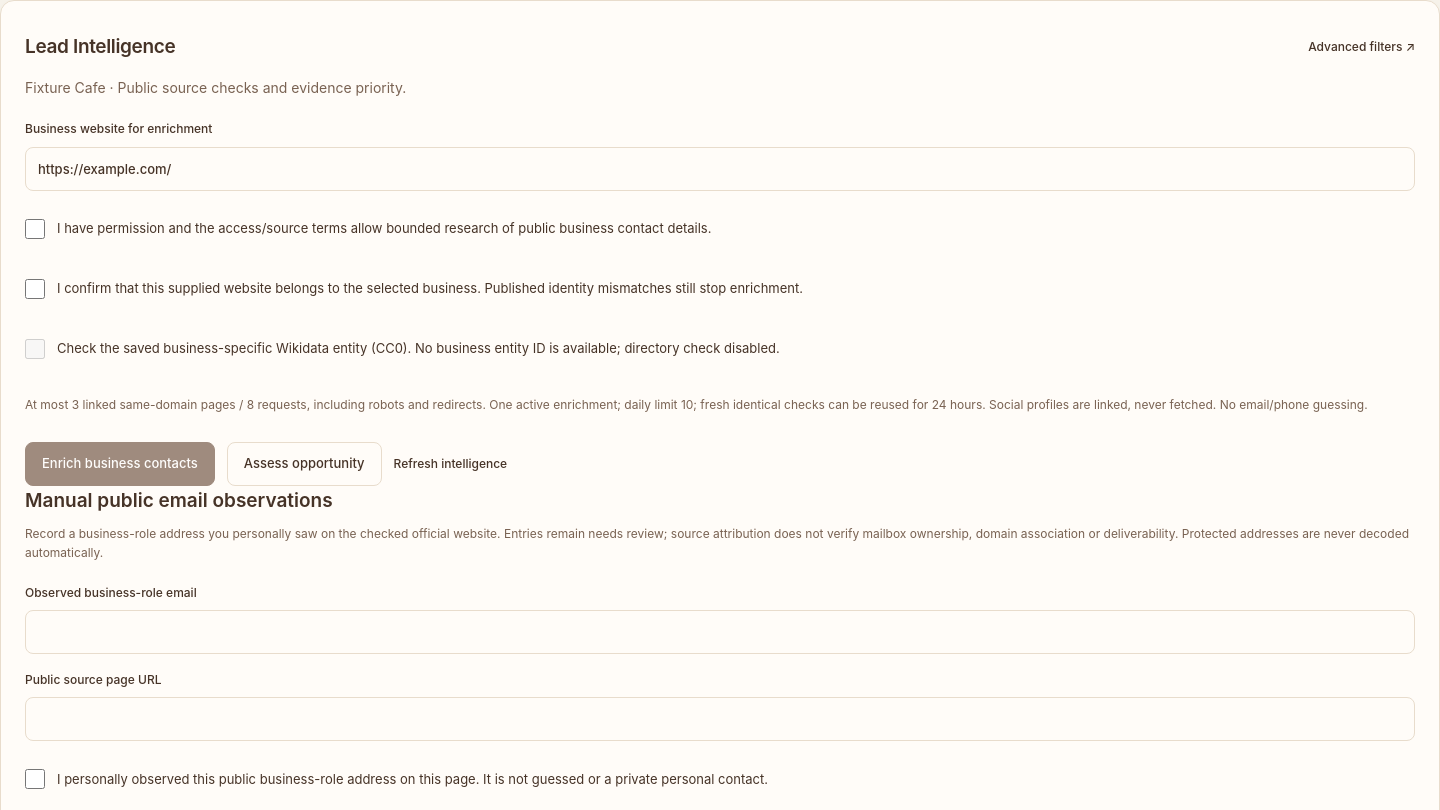
Scenario: requires source permission and sends the selected business and official confirmation
expect the button "Enrich business contacts" is disabled: met, box [25,442,215,486]
Click the checkbox labelled "I have permission".
click(35, 229)  # box [25,219,45,239]
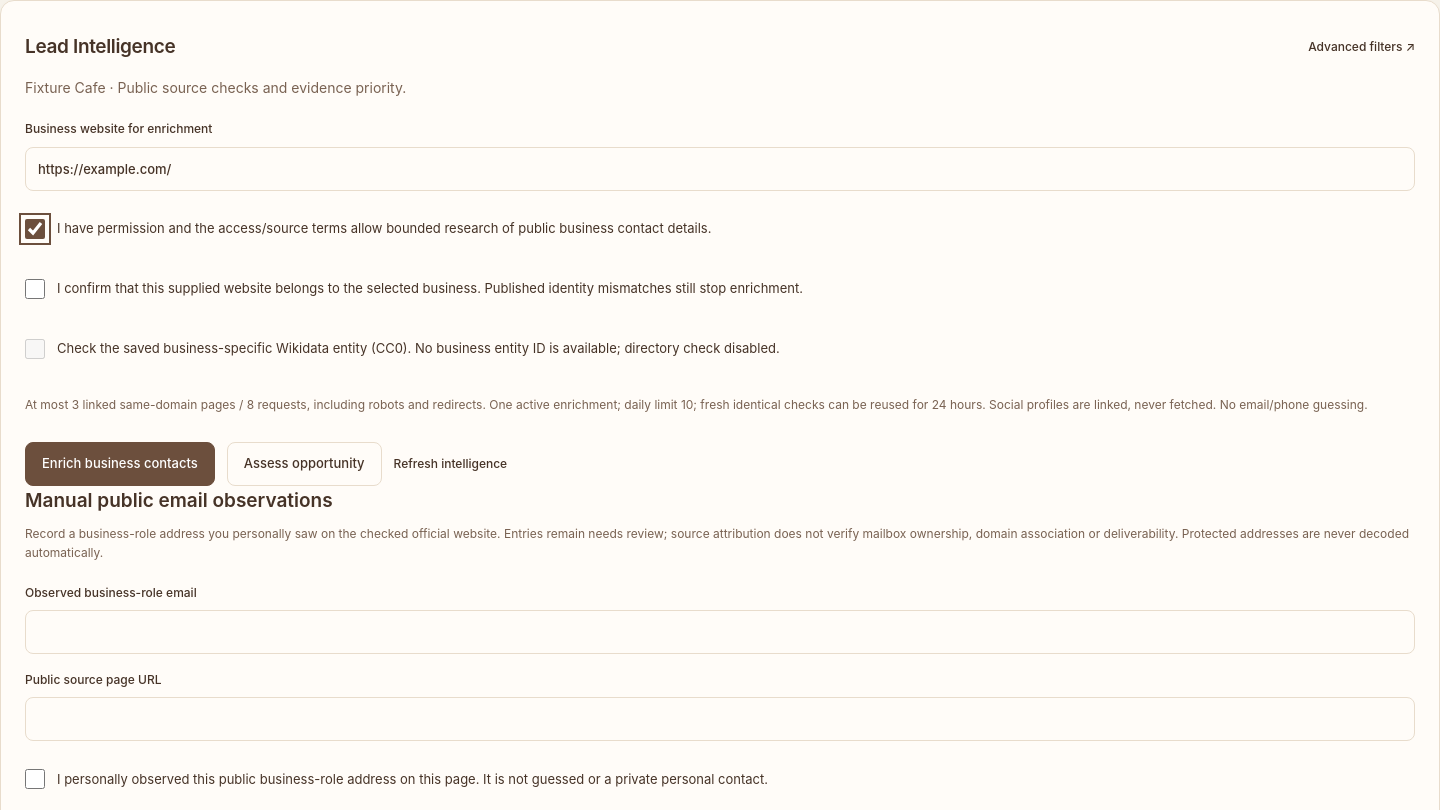
Click the checkbox labelled "I confirm that".
click(35, 289)  # box [25,279,45,299]
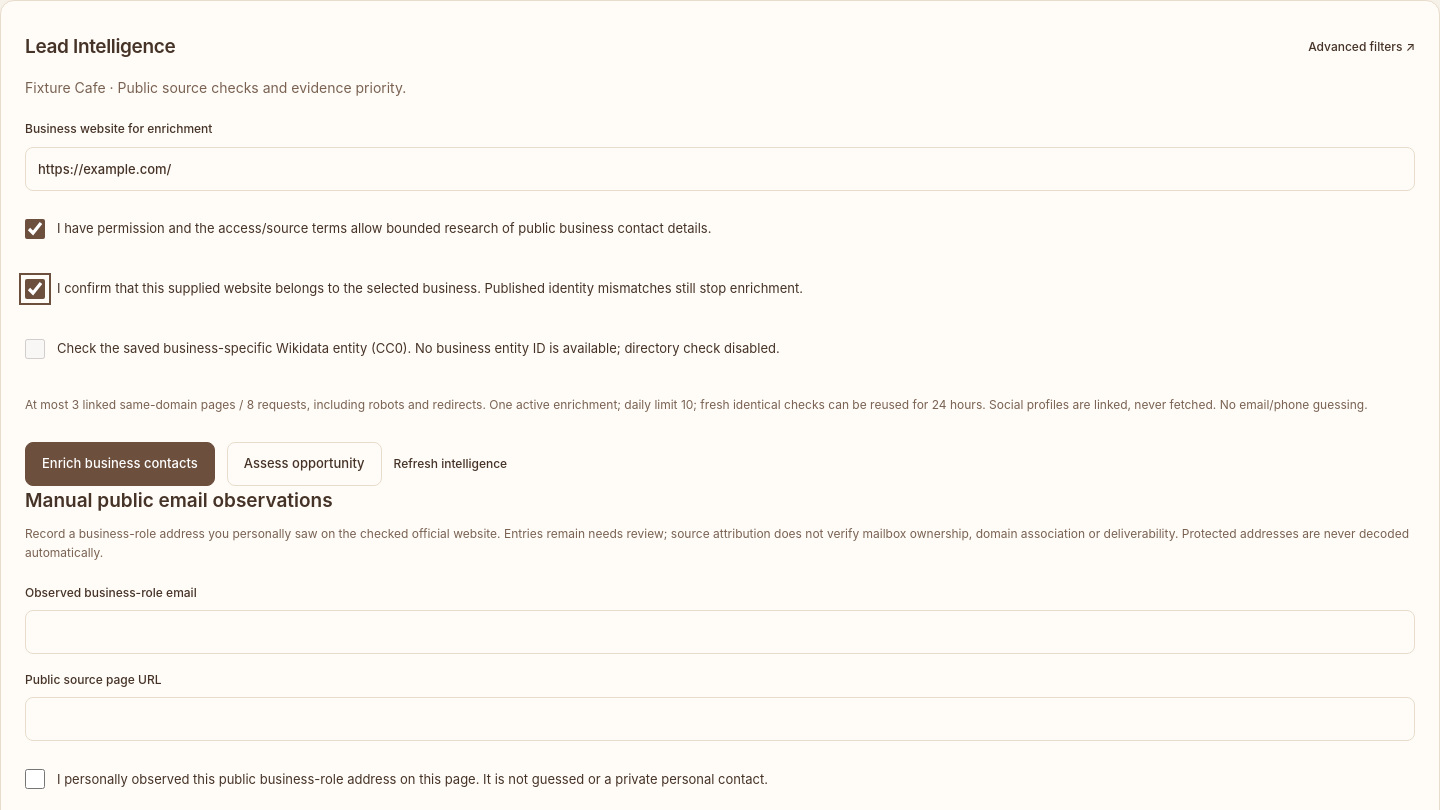
Click the button "Enrich business contacts".
click(120, 464)  # box [25,442,215,486]
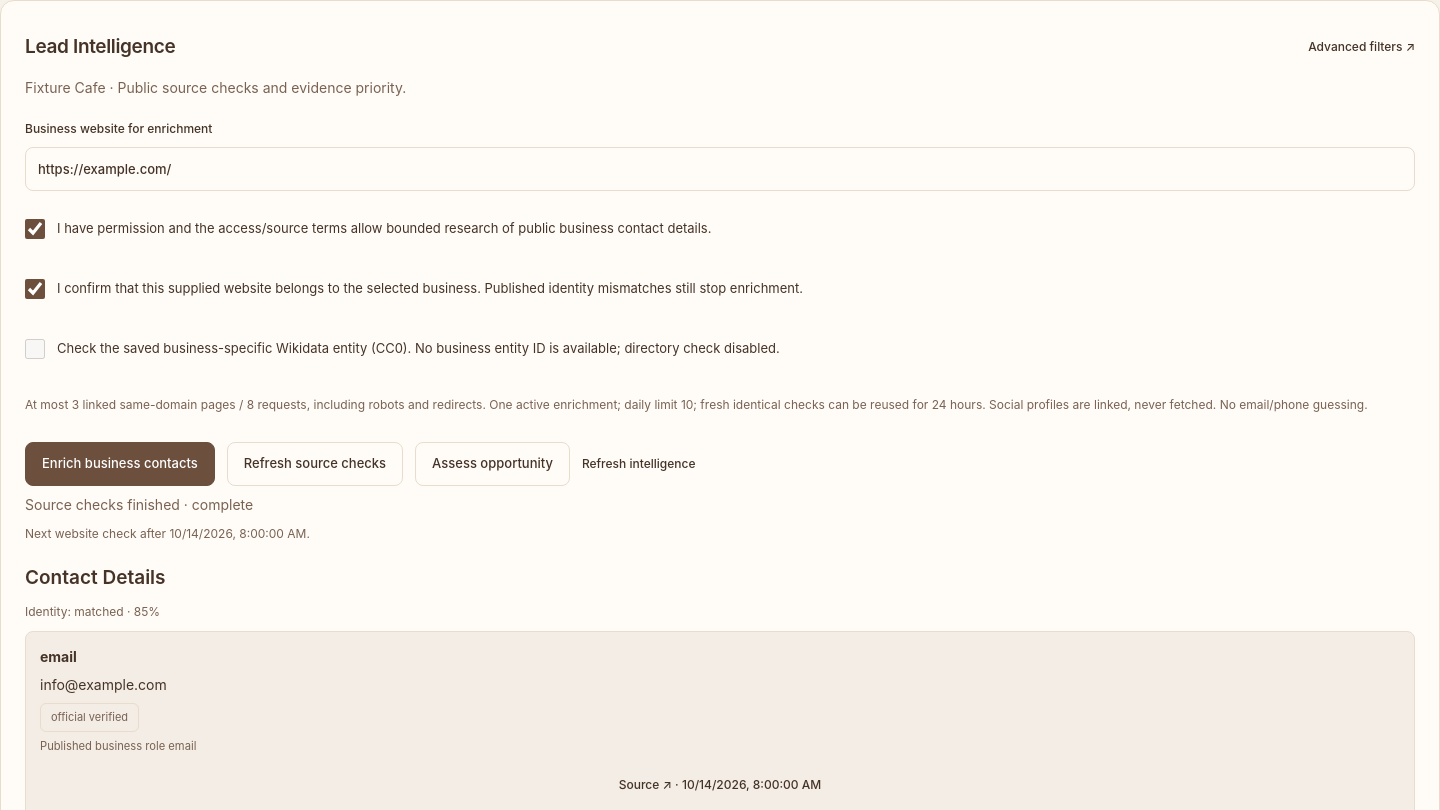
expect the text "info@example.com" is shown: met, box [40,676,167,693]
expect the text "Published business role email" is shown: met, box [40,739,196,753]
expect the text "official verified" is shown: met, box [40,703,139,732]
